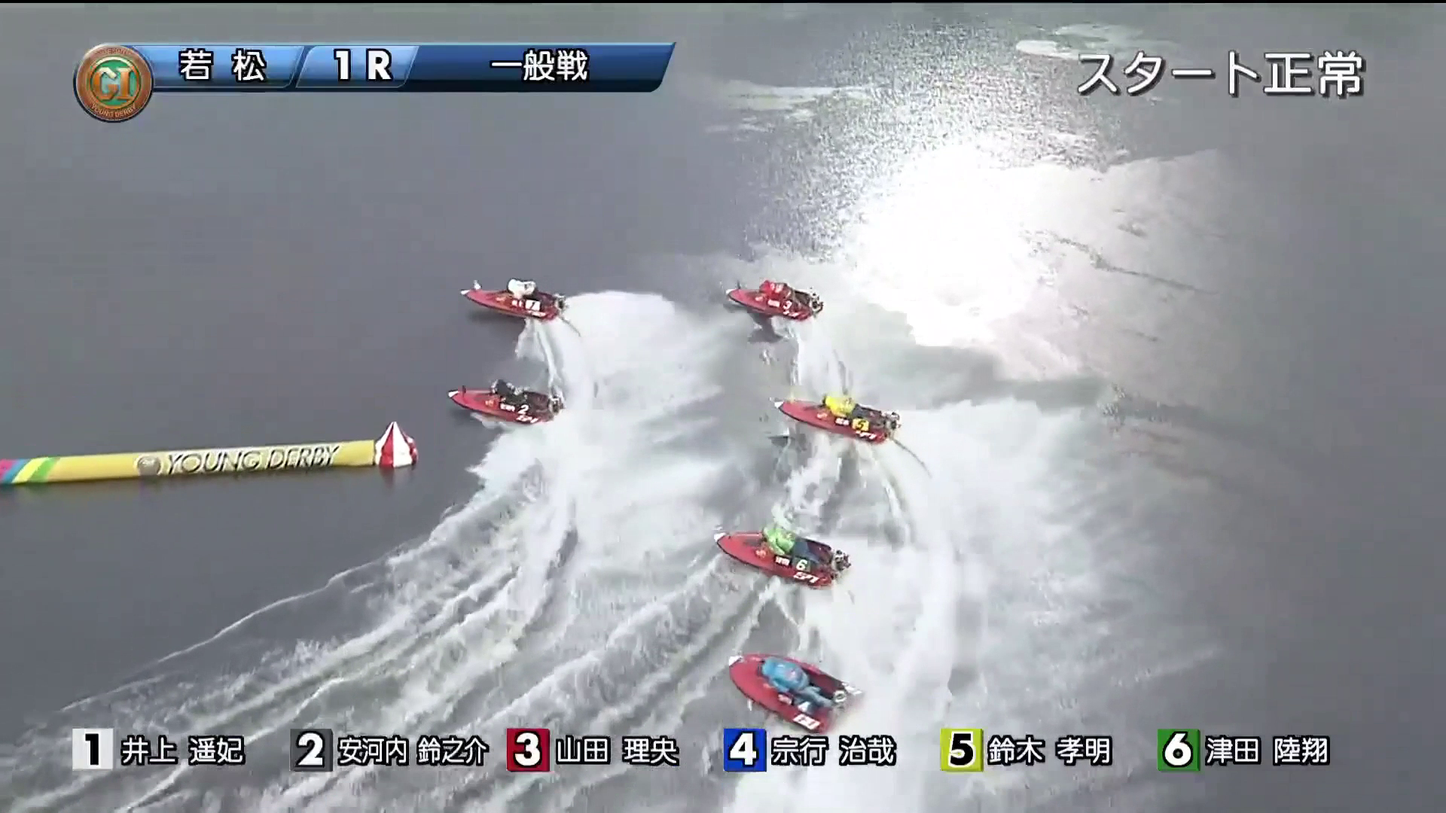１号艇: (473, 288, 543, 341)
２号艇: (433, 372, 562, 432)
３号艇: (721, 278, 819, 325)
４号艇: (711, 525, 845, 590)
５号艇: (731, 662, 854, 717)
６号艇: (776, 370, 875, 451)
